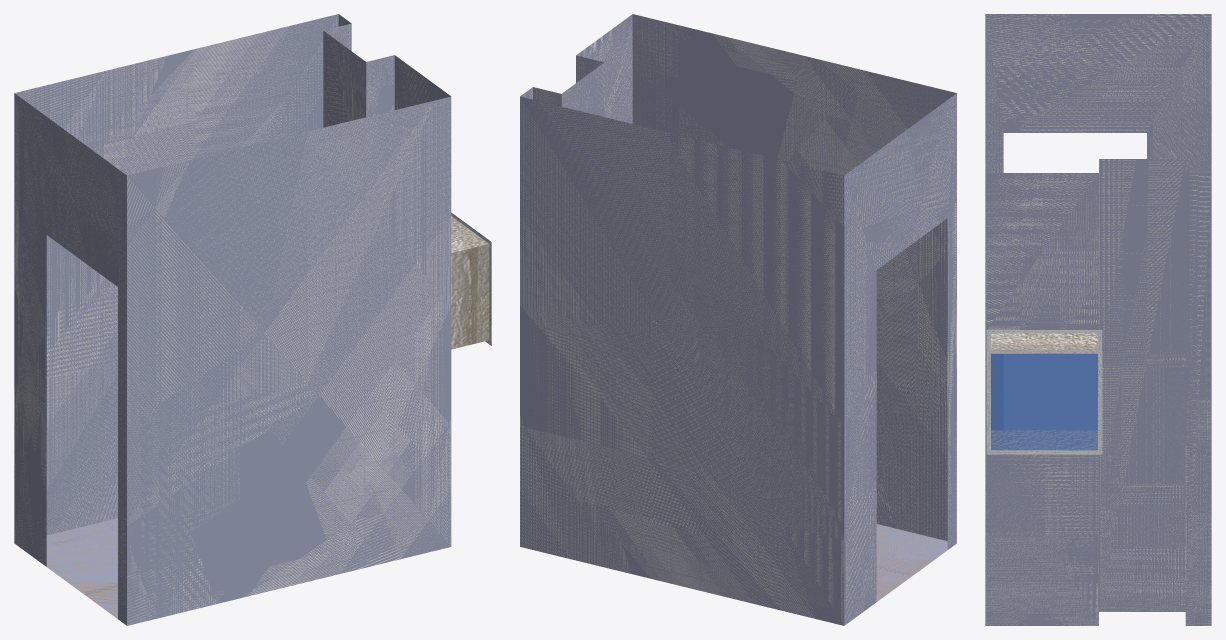
File: COM008.obj
The picture shows the model from 3 angles, left to right: view 1: azimuth 30°, elevation 25°; view 2: azimuth 150°, elevation 25°; view 3: azimuth 270°, elevation 25°; orthographic projection.
Parts seen in each view (by area): view 1: Mesh5 COM008 Model, Mesh1 Group1 COM008 Model; view 2: Mesh5 COM008 Model; view 3: Mesh5 COM008 Model, Mesh1 Group1 COM008 Model.
Part boxes in pixels (<box>): Mesh5 COM008 Model: <box>14,14,451,625</box>; Mesh1 Group1 COM008 Model: <box>451,212,491,349</box>; Mesh5 COM008 Model: <box>520,14,956,625</box>; Mesh5 COM008 Model: <box>985,14,1211,625</box>; Mesh1 Group1 COM008 Model: <box>986,330,1102,454</box>.
Size of the model in its own units: 2.55 by 3 by 1.36.
6 materials, 3 textured.
